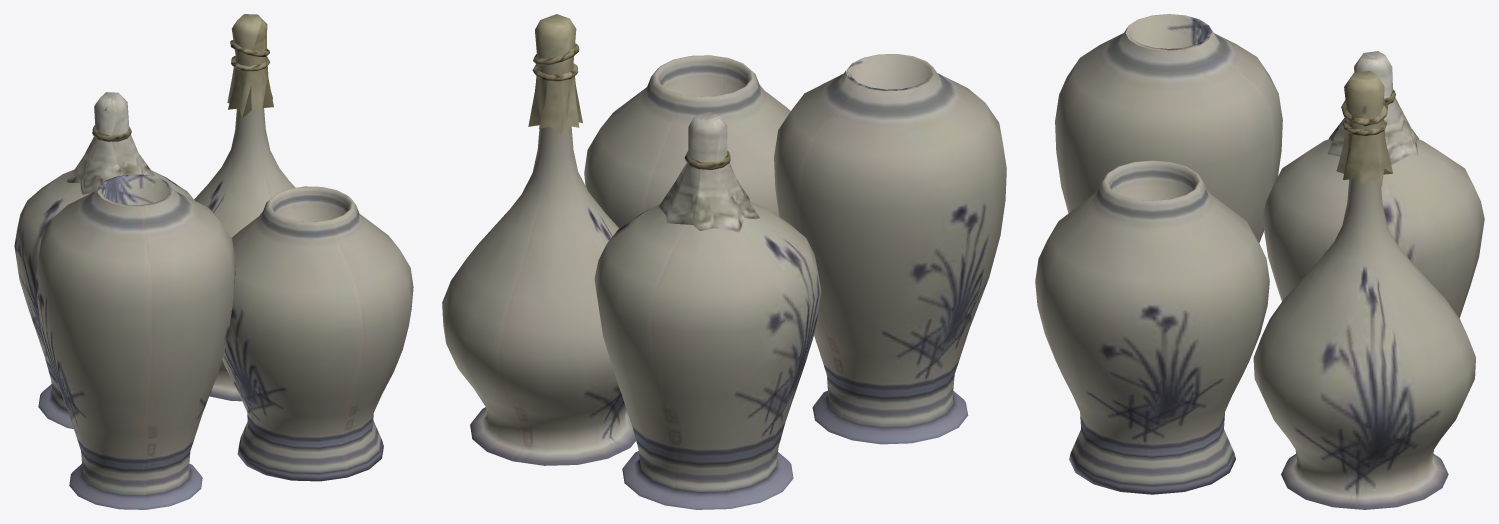
File: TW2_9_ADDONS_04_18-transformed.glb
The picture shows the model from 3 angles, left to right: view 1: azimuth 30°, elevation 25°; view 2: azimuth 150°, elevation 25°; view 3: azimuth 270°, elevation 25°; orthographic projection. The views are drawn at different scales.
Parts seen in each view (by area): view 1: default; view 2: default; view 3: default.
Part boxes in pixels (box(x1,y1,x2,y2)): default: box(14, 14, 413, 509); default: box(442, 14, 1006, 509); default: box(1035, 14, 1484, 509).
Bounding box in the file's own units: 0.9302 × 0.8654 × 0.8573.
Materials: 1 (1 with a texture image).
